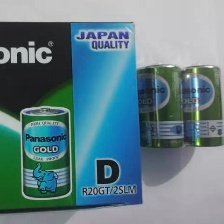battery: (135, 60, 189, 152), (176, 60, 224, 149)
book: (0, 18, 146, 217)
